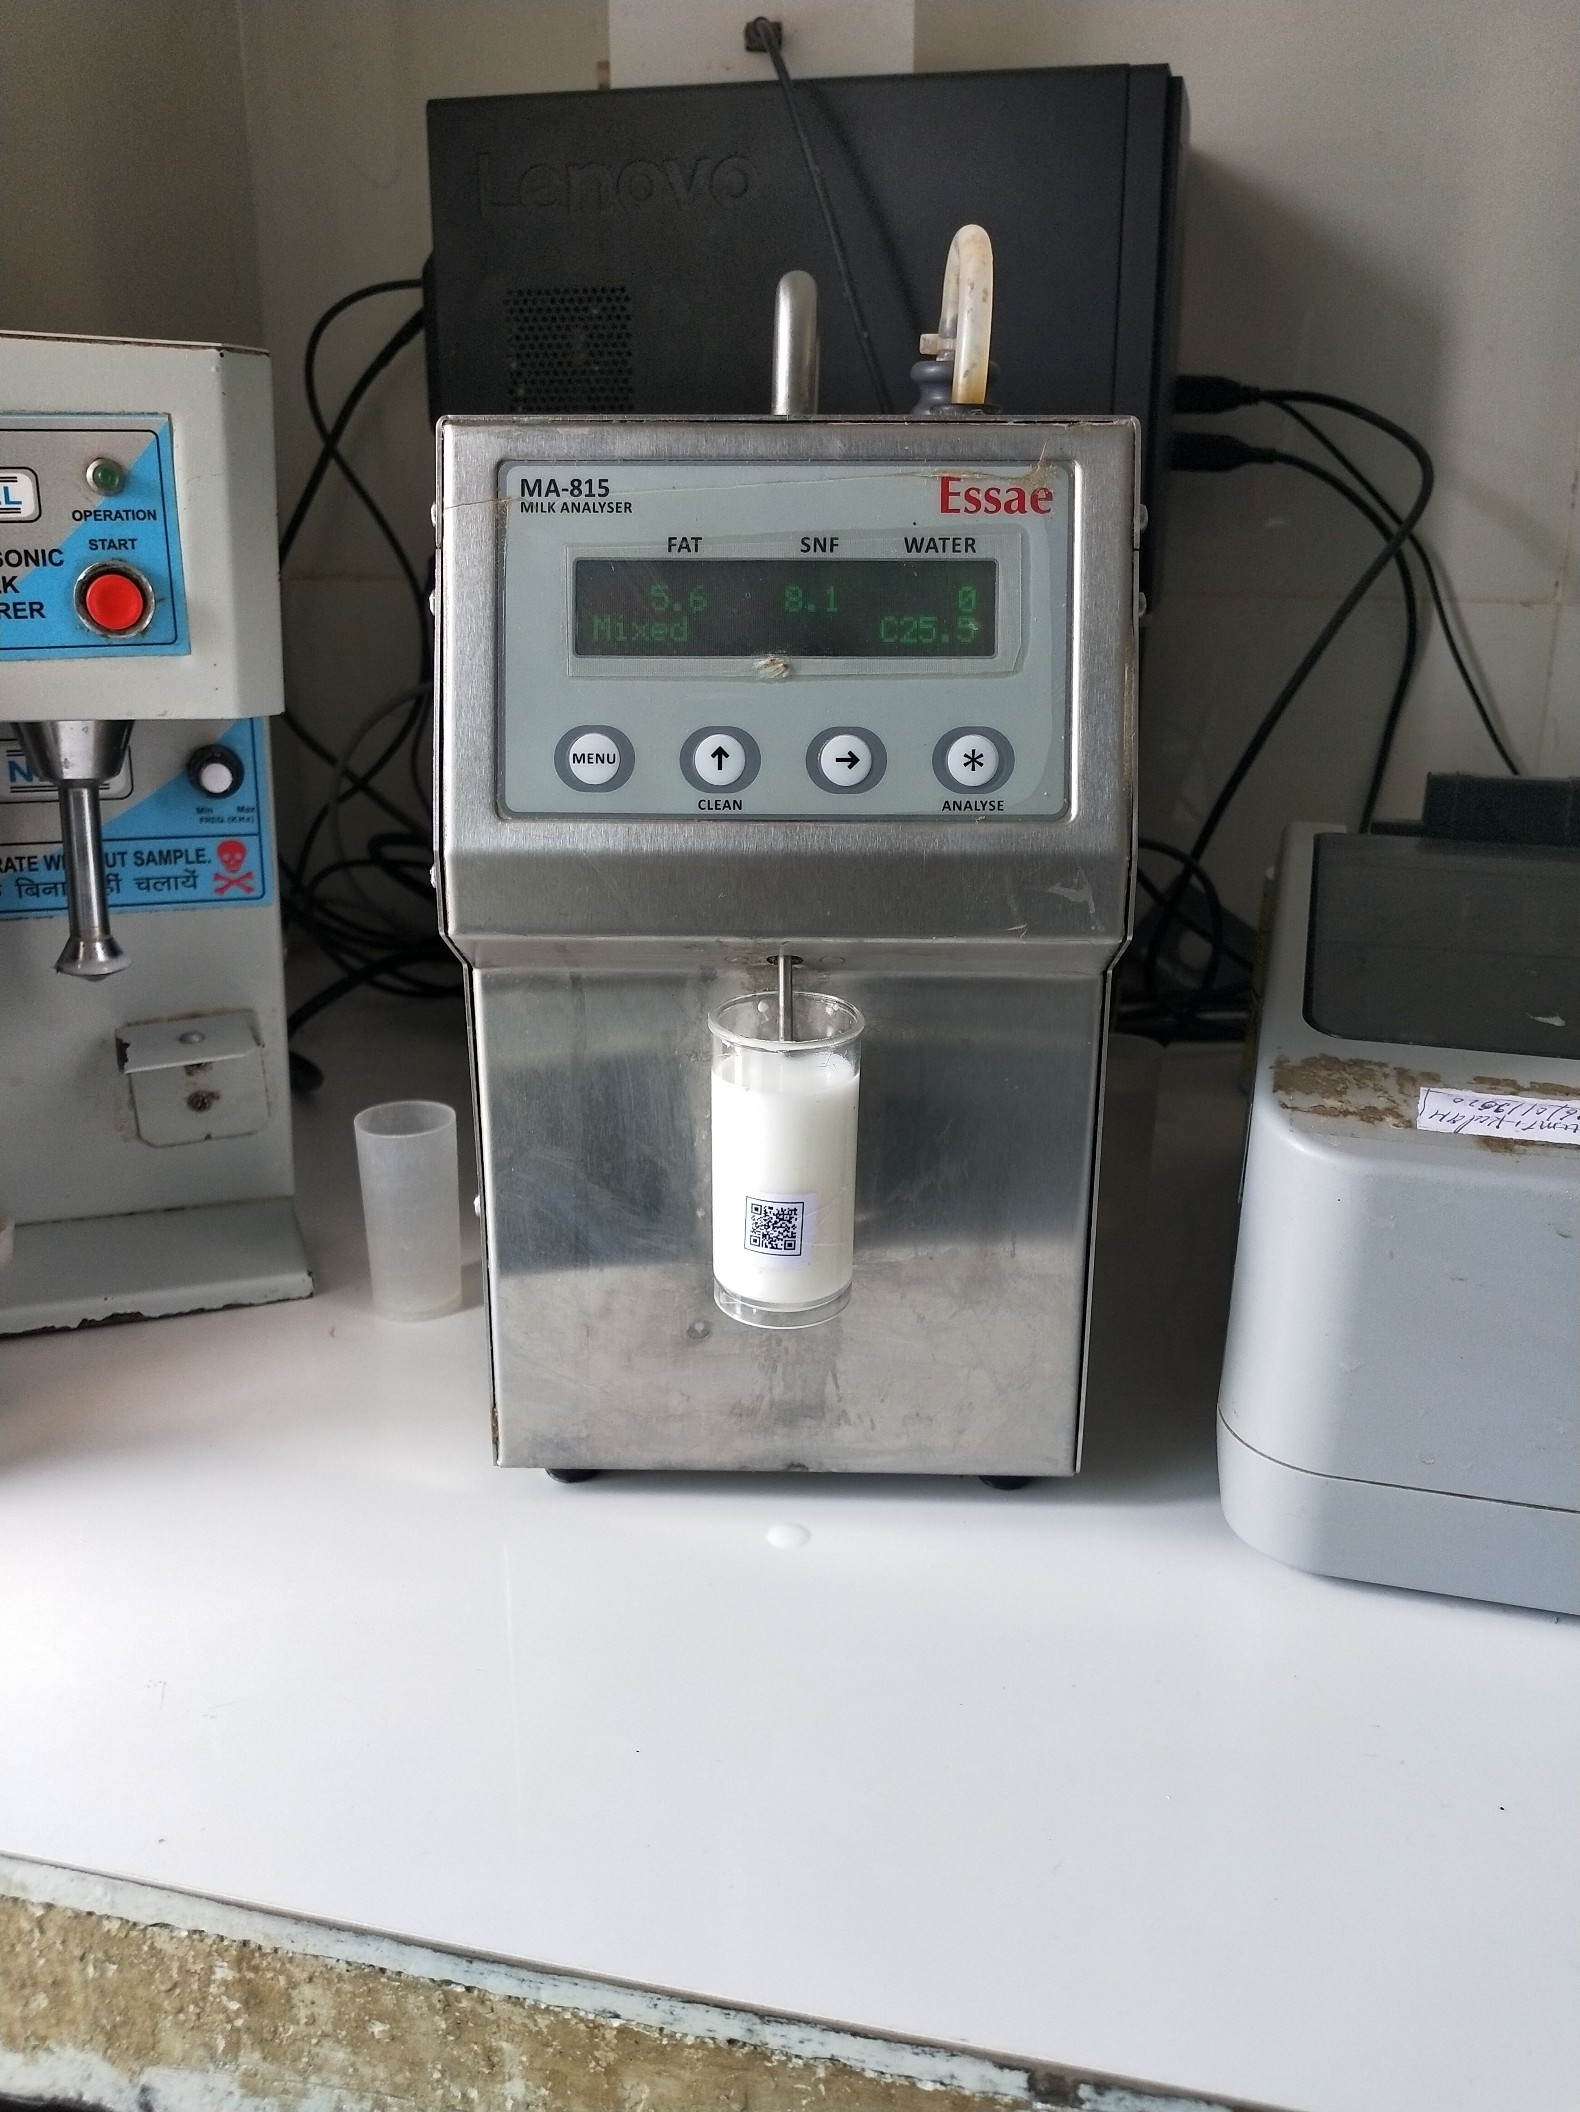lcd: (563, 539, 1011, 675)
qr: (734, 1191, 827, 1273)
